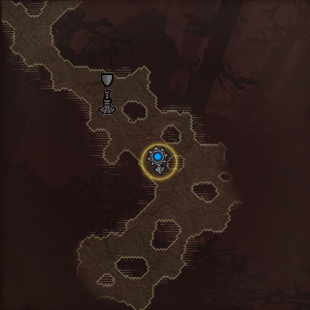Guardian2: (139, 141, 178, 183)
